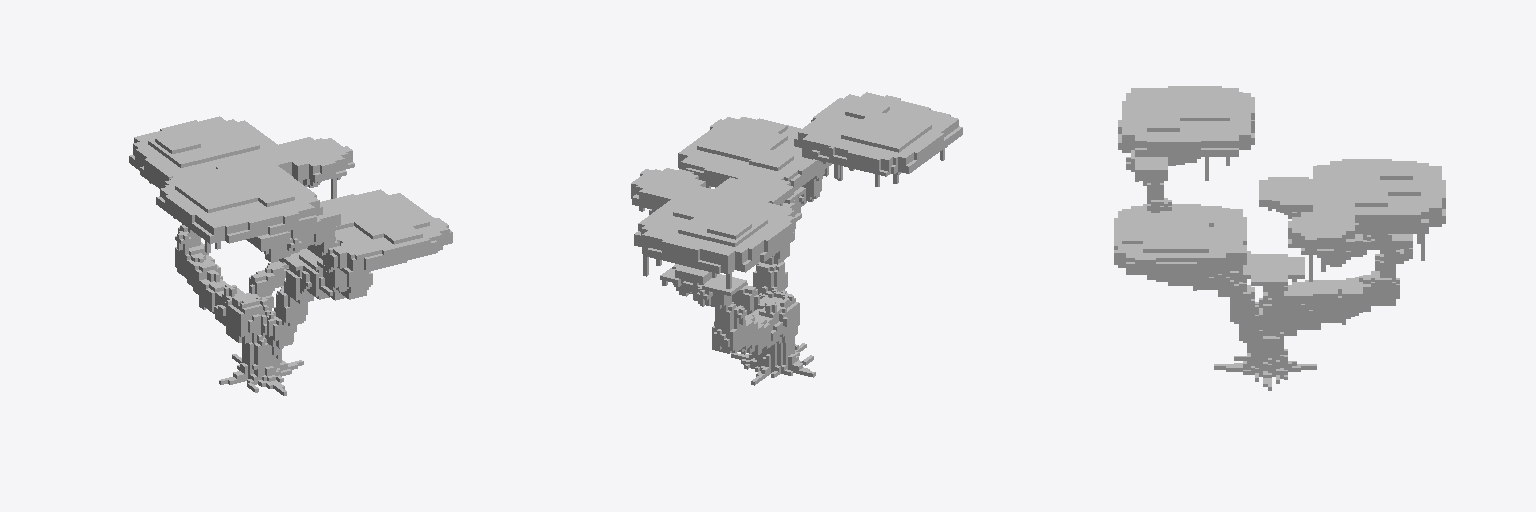
Rendered from cherryBlossom2-0.obj.
The picture shows the model from 3 angles: view 1: azimuth 30°, elevation 25°; view 2: azimuth 150°, elevation 25°; view 3: azimuth 270°, elevation 25°; orthographic projection.
Visible parts, largest first — view 1: object 1; view 2: object 1; view 3: object 1.
Boxes of the visible parts, x1=… form: object 1: x1=129, y1=116, x2=452, y2=395; object 1: x1=631, y1=92, x2=962, y2=385; object 1: x1=1114, y1=86, x2=1445, y2=390.
Bounding box in the file's own units: 6.7 × 6.1 × 8.